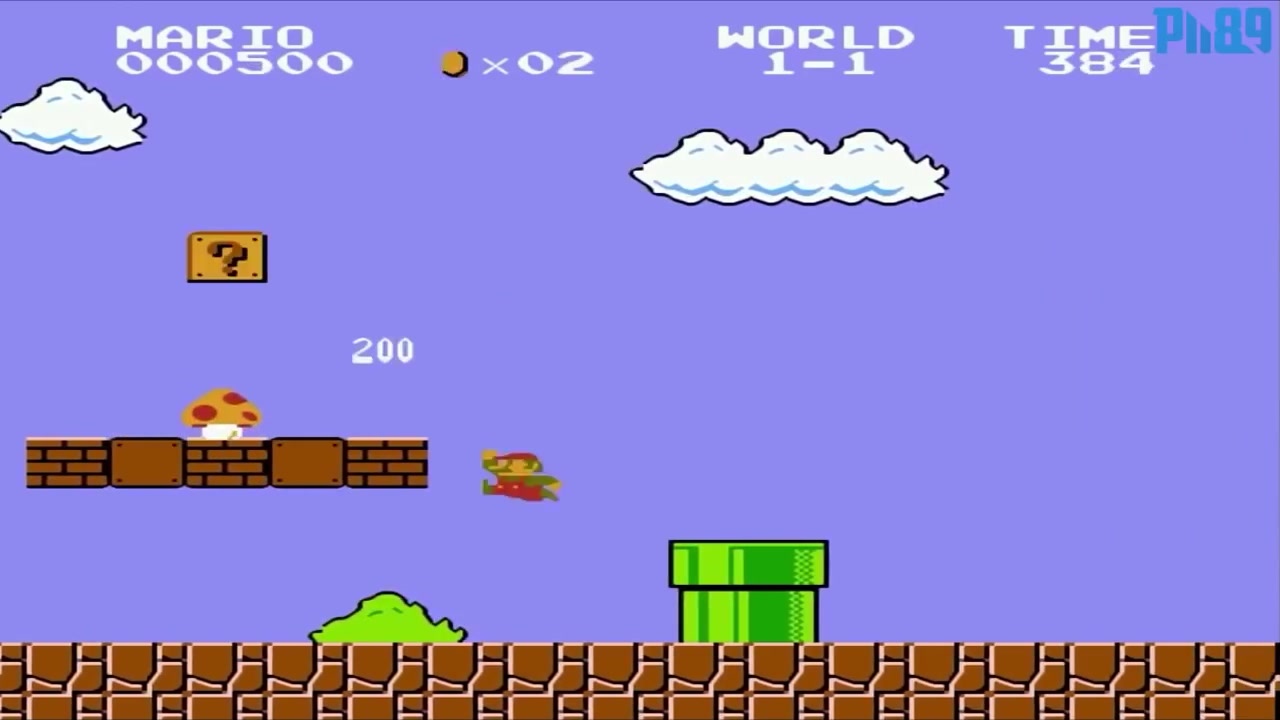mario: (469, 434, 569, 510)
